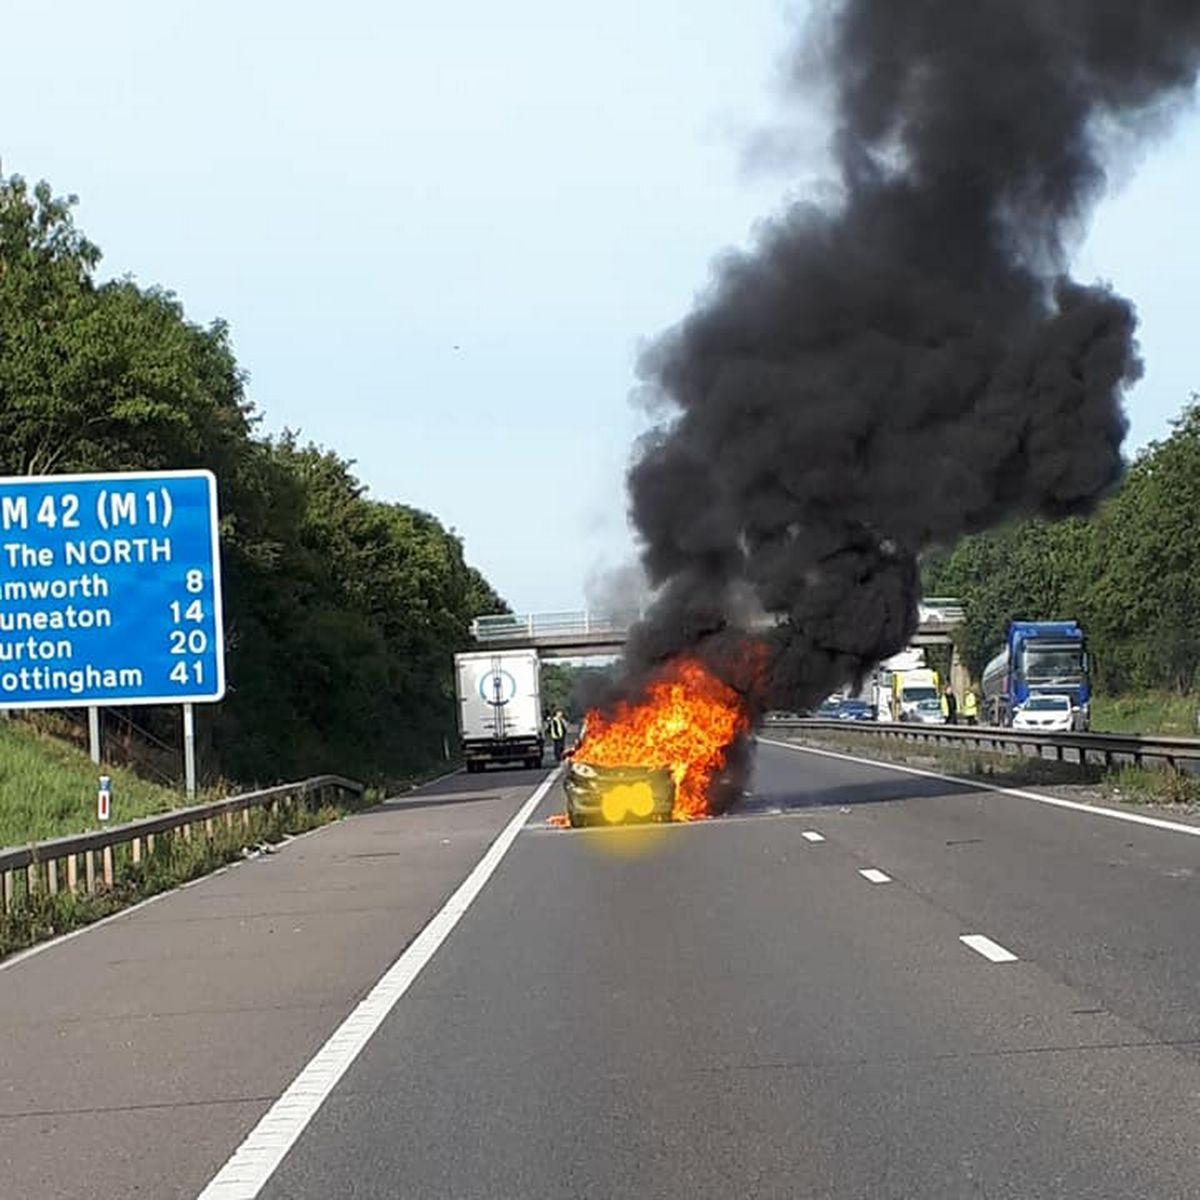Fire: (578, 671, 744, 827)
